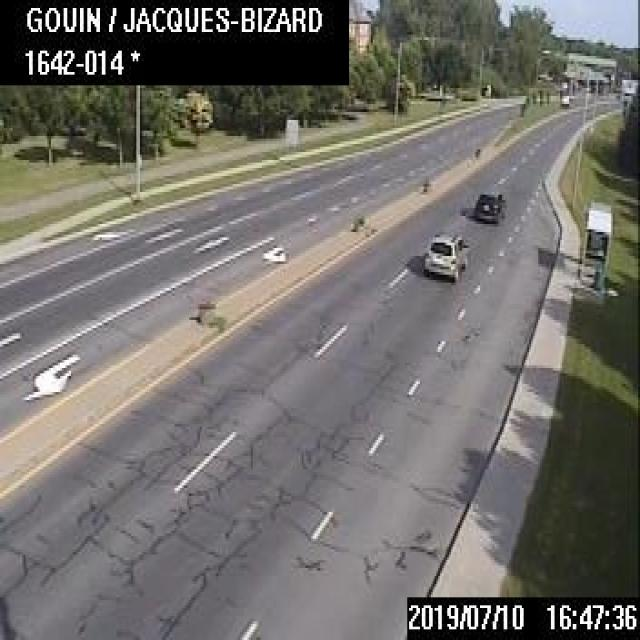vehicle: (422, 231, 468, 281), (473, 190, 504, 222)
